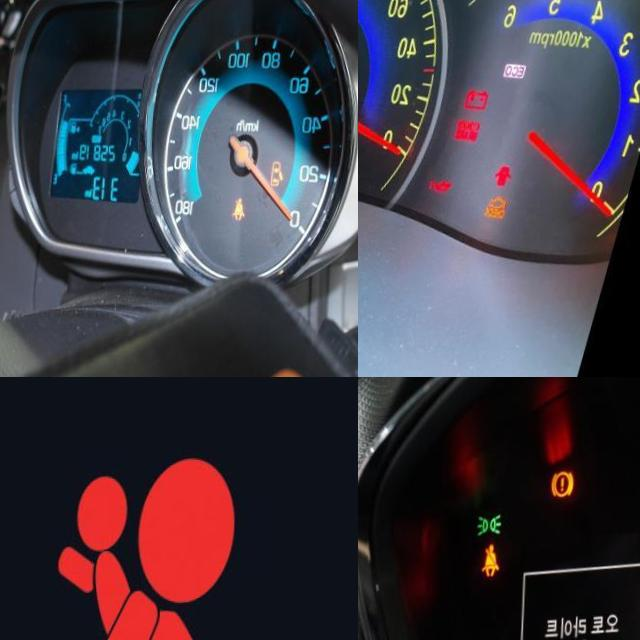Doors: (497, 173, 519, 198), (273, 167, 287, 195)
SideLamp: (480, 514, 504, 539)
